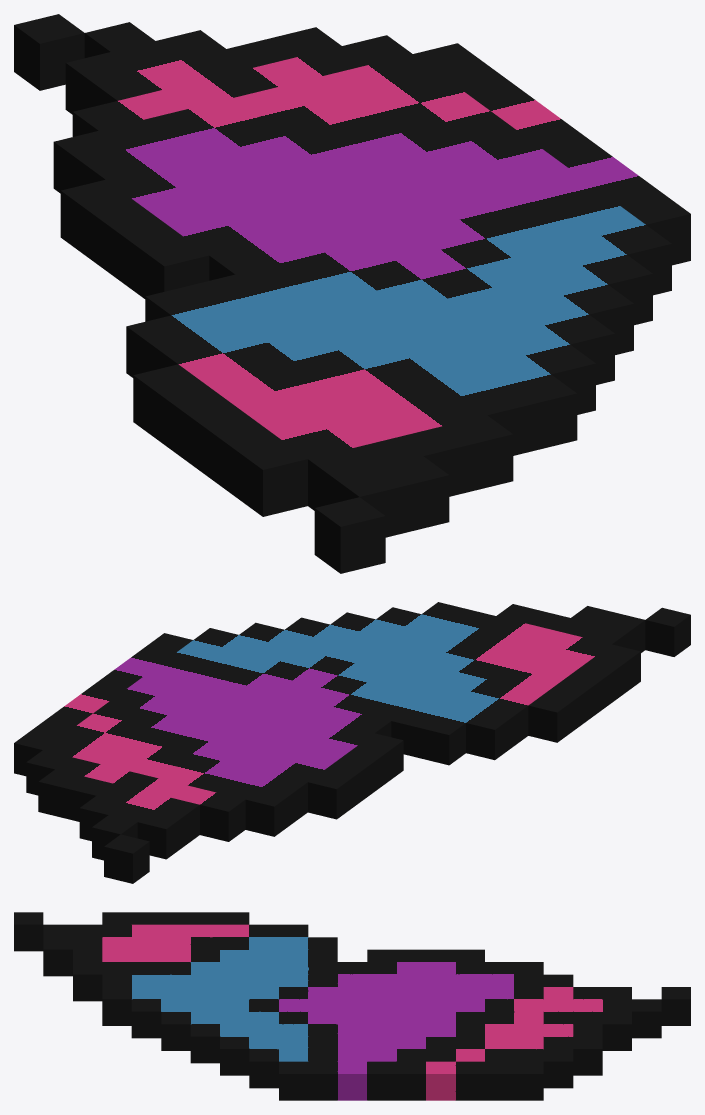
Rendered from butterfly_wing_right.dae.
The picture shows the model from 3 angles, top to bottom: view 1: azimuth 30°, elevation 25°; view 2: azimuth 150°, elevation 25°; view 3: azimuth 270°, elevation 25°; orthographic projection. The views are drawn at different scales.
Parts seen in each view (by area): view 1: butterfly_wing_right; view 2: butterfly_wing_right; view 3: butterfly_wing_right.
Boxes of the visible parts, <box> form: butterfly_wing_right: <box>14,14,690,573</box>; butterfly_wing_right: <box>14,602,690,883</box>; butterfly_wing_right: <box>14,912,690,1100</box>.
Bounding box in the file's own units: 1.3 × 2.3 × 0.1.
Materials: 1 (1 with a texture image).
